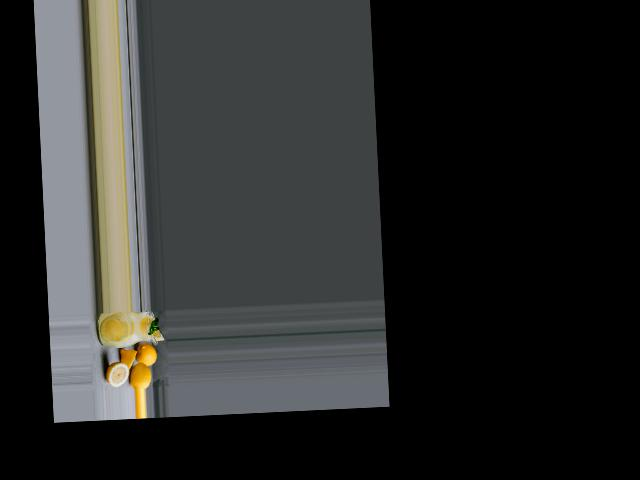lemon: (129, 358, 150, 388)
